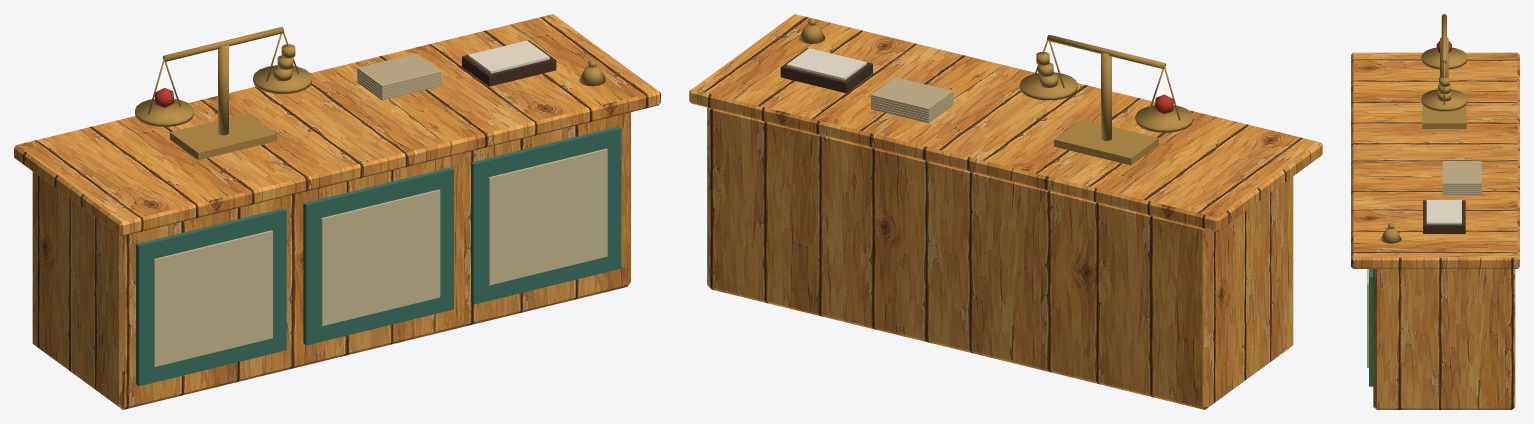
3 views of the same model, side by side, from view 1: azimuth 30°, elevation 25°; view 2: azimuth 150°, elevation 25°; view 3: azimuth 270°, elevation 25° (orthographic). The views are drawn at different scales.
Visible parts, largest first — view 1: shop_oak, shop_pantry_trim, shop_pantry_wainscot, shop_brass, shop_sack, shop_paper, shop_wood_dark; view 2: shop_oak, shop_brass, shop_sack, shop_paper, shop_wood_dark; view 3: shop_oak, shop_brass, shop_sack, shop_paper, shop_wood_dark, shop_pantry_wainscot, shop_pantry_trim.
Part boxes in pixels (x1,y1,x2,y2): shop_oak: (14,14,660,409); shop_pantry_trim: (153,148,607,366); shop_pantry_wainscot: (136,126,621,386); shop_brass: (135,27,605,160); shop_sack: (357,53,441,100); shop_paper: (468,40,549,73); shop_wood_dark: (462,40,556,86); shop_oak: (689,14,1322,409); shop_brass: (799,18,1193,165); shop_sack: (871,77,953,123); shop_paper: (786,48,866,80); shop_wood_dark: (780,47,872,93); shop_oak: (1351,52,1519,409); shop_brass: (1380,14,1467,243); shop_sack: (1442,161,1481,194); shop_paper: (1426,200,1461,224); shop_wood_dark: (1423,200,1465,233); shop_pantry_wainscot: (1369,269,1373,386); shop_pantry_trim: (1367,269,1368,367).
Size of the model in its own units: 2.75 by 1.47 by 0.95.
8 materials, 1 textured.
